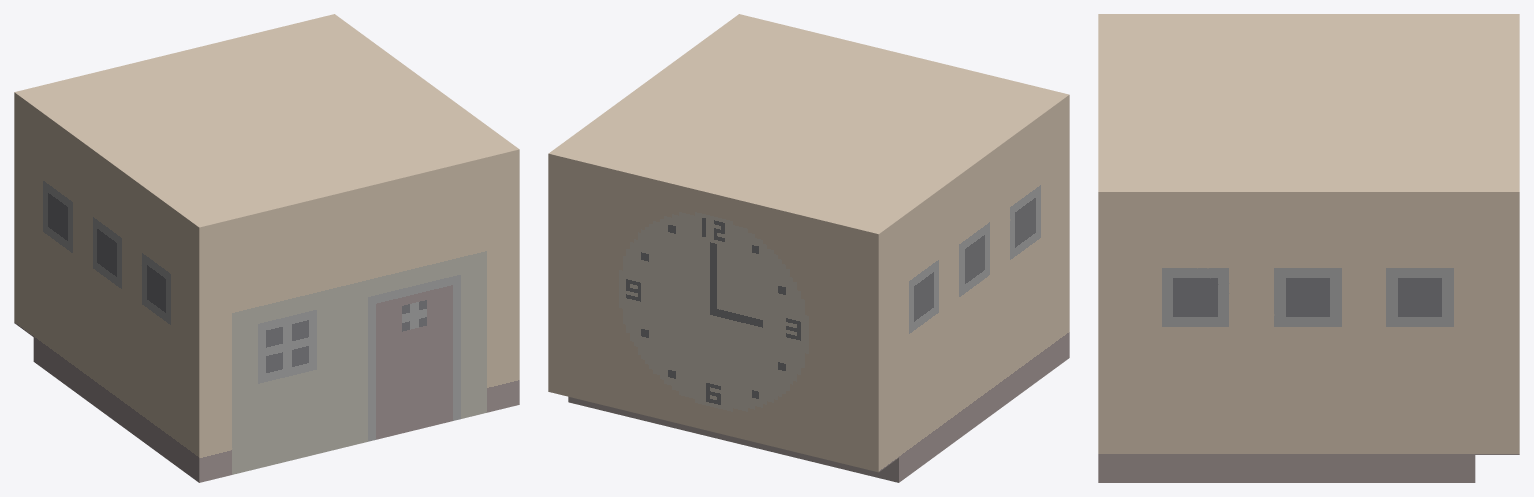
File: 0263_Clock_Pedestal.glb
The picture shows the model from 3 angles, left to right: view 1: azimuth 30°, elevation 25°; view 2: azimuth 150°, elevation 25°; view 3: azimuth 270°, elevation 25°; orthographic projection. The views are drawn at different scales.
Parts seen in each view (by area): view 1: part_0; view 2: part_0; view 3: part_0.
Part boxes in pixels (x1,y1,x2,y2): part_0: (14, 14, 519, 482); part_0: (548, 14, 1069, 482); part_0: (1098, 14, 1519, 482).
Size of the model in its own units: 4.95 by 3.77 by 4.95.
Materials: 1 (1 with a texture image).
